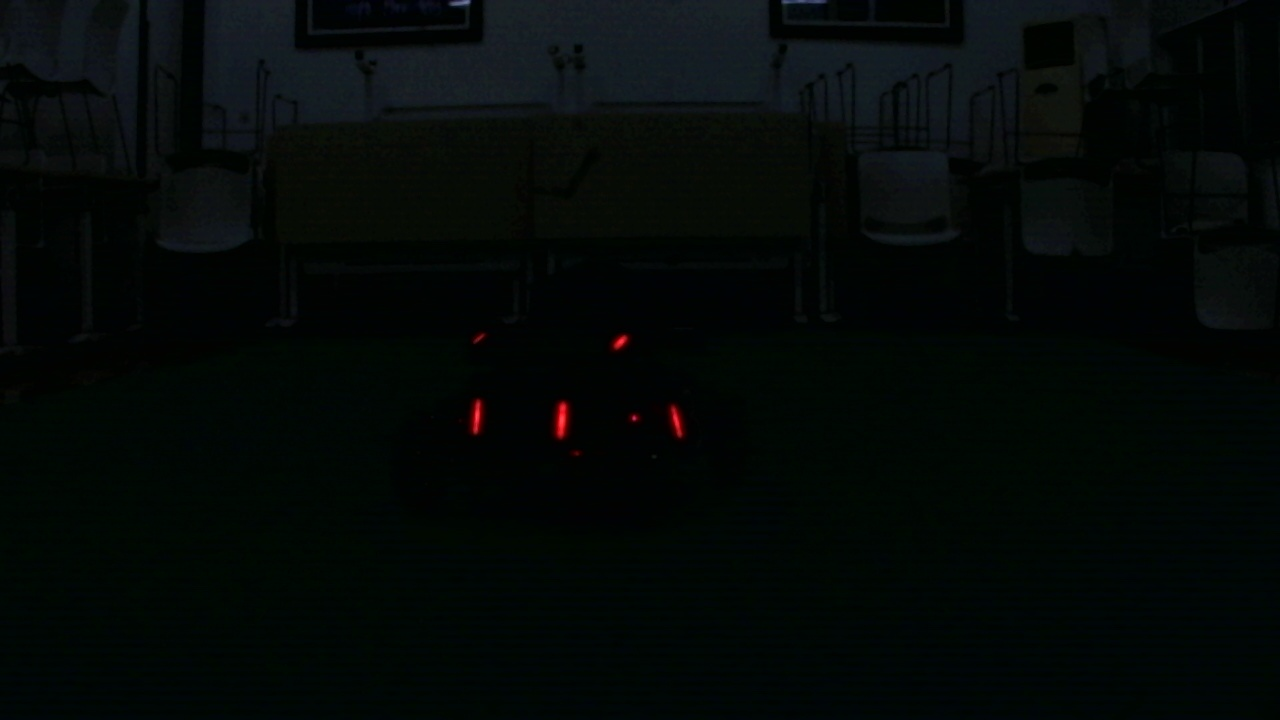lamp: (666, 403, 685, 442), (555, 396, 570, 444), (470, 396, 482, 433)
pair1: (470, 399, 568, 438)
